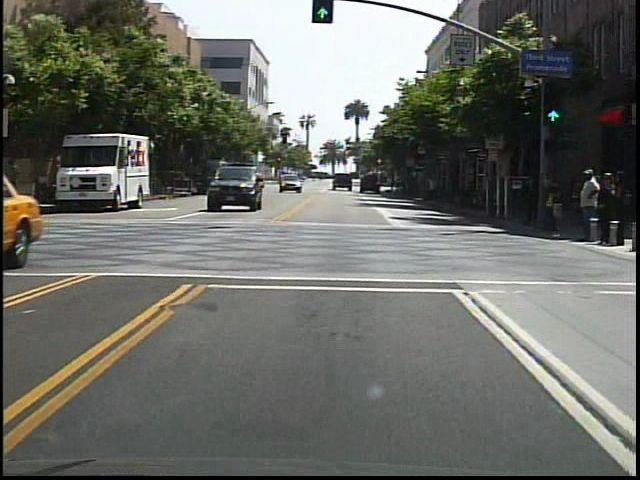person: (570, 166, 601, 246), (521, 162, 541, 230)
